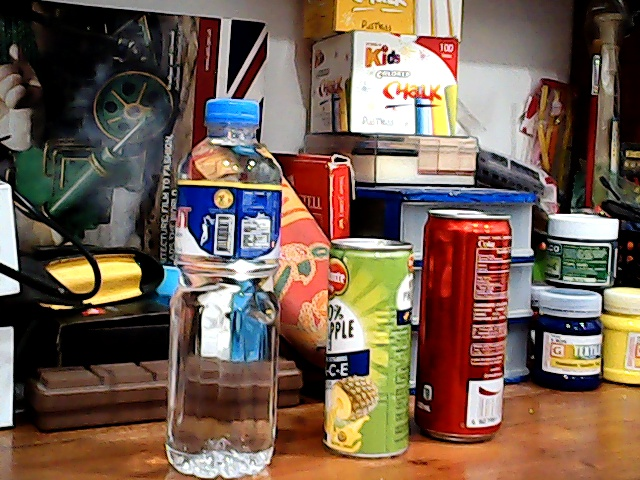Cola: (410, 199, 520, 445)
Pine Juice: (311, 231, 414, 462)
Summit Water: (161, 82, 294, 480)
